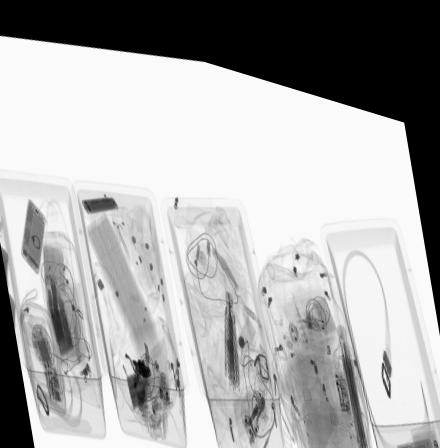Lighter: (302, 293, 328, 313)
